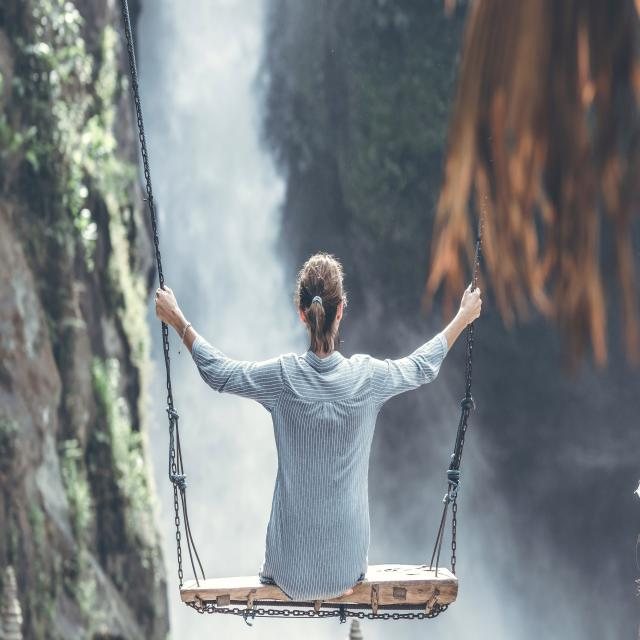adult: (153, 248, 483, 595)
